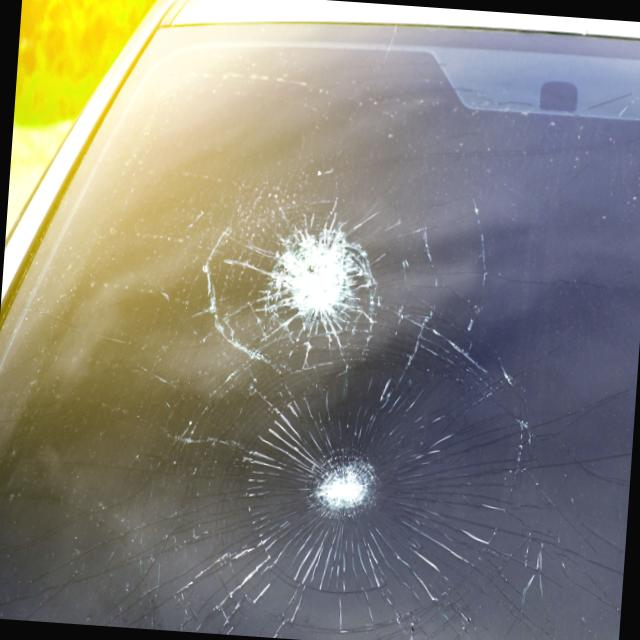Fissure: (0, 299, 639, 640), (165, 105, 535, 394), (253, 198, 386, 368), (301, 425, 381, 526)
